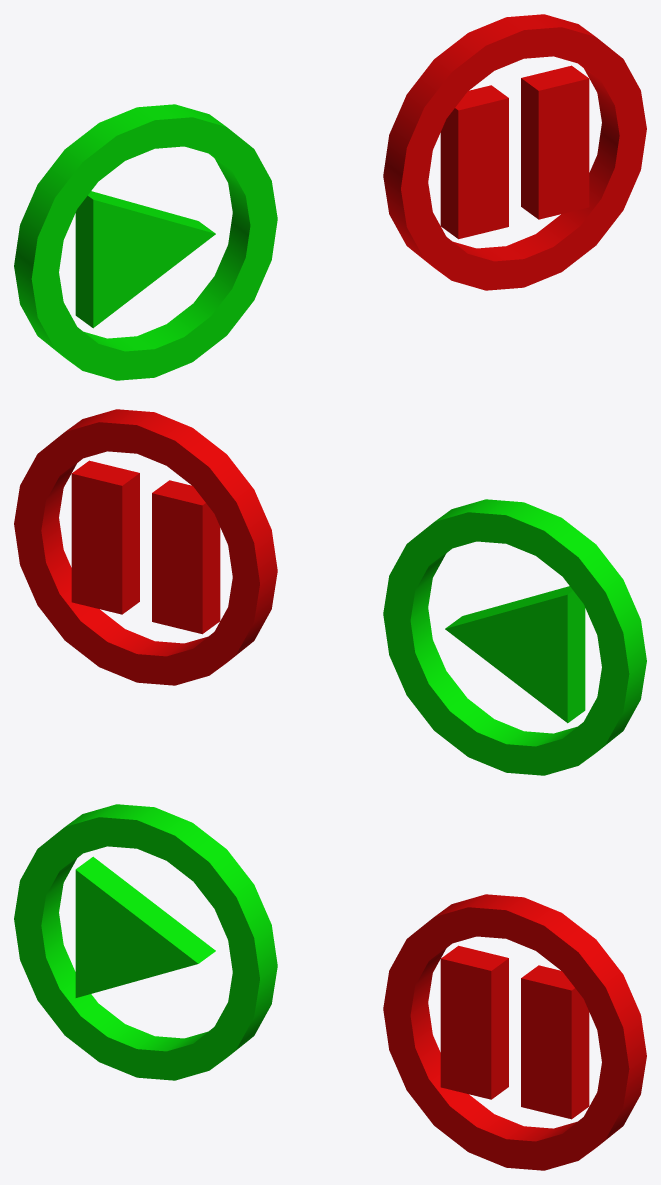
3 views of the same model, one above another, from view 1: azimuth 30°, elevation 25°; view 2: azimuth 150°, elevation 25°; view 3: azimuth 330°, elevation 25° (orthographic).
Visible parts, largest first — view 1: pCylinder3, pCylinder4; view 2: pCylinder3, pCylinder4; view 3: pCylinder3, pCylinder4.
Part boxes in pixels (box(x1,y1,x2,y2)): pCylinder3: box(383, 14, 646, 290); pCylinder4: box(14, 104, 277, 380); pCylinder3: box(14, 409, 277, 685); pCylinder4: box(383, 499, 646, 775); pCylinder3: box(383, 894, 646, 1170); pCylinder4: box(14, 804, 277, 1080).
Bounding box in the file's own units: 5 × 2 × 0.2486.
